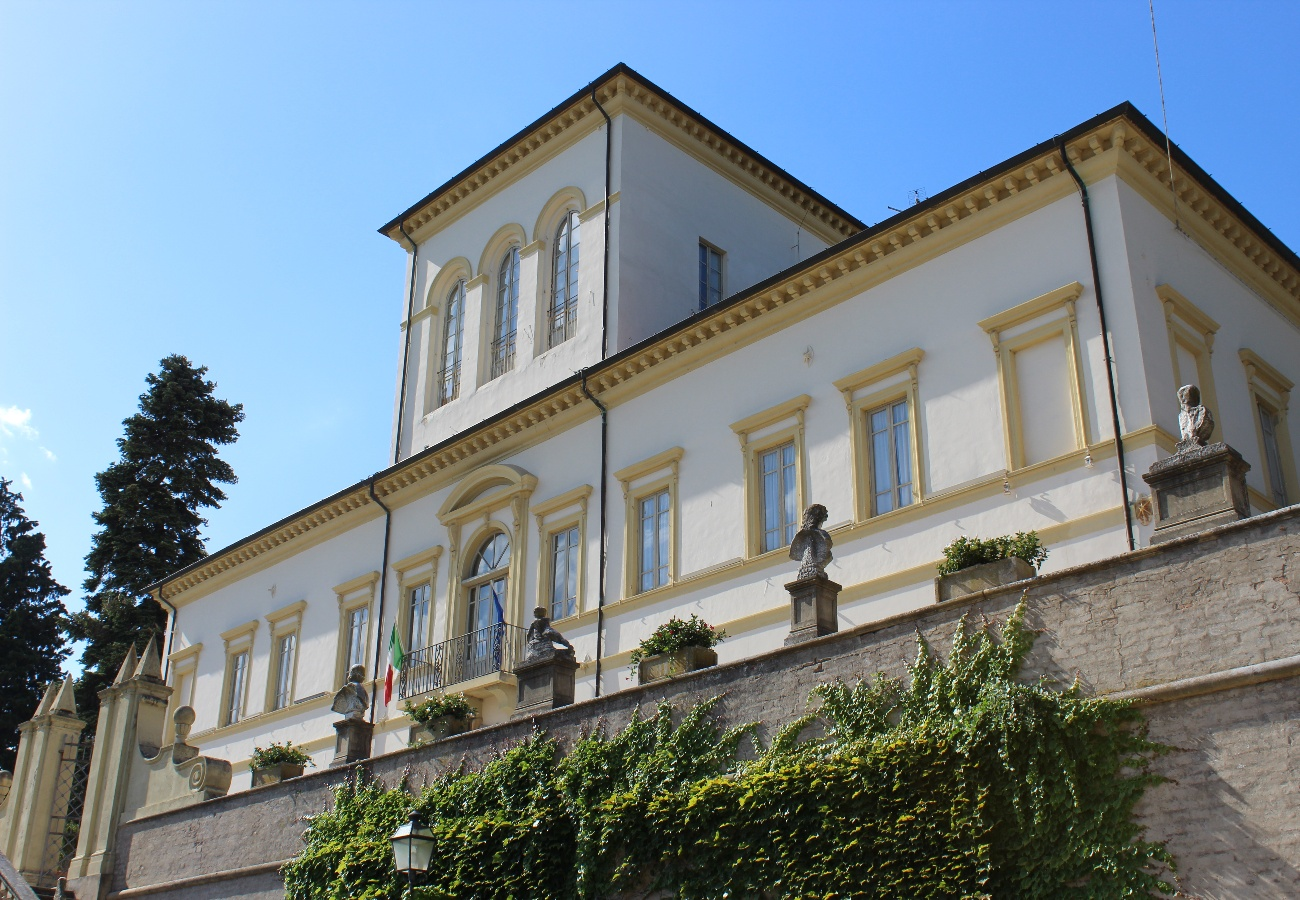Villa Caprile: (119, 62, 1300, 809)
